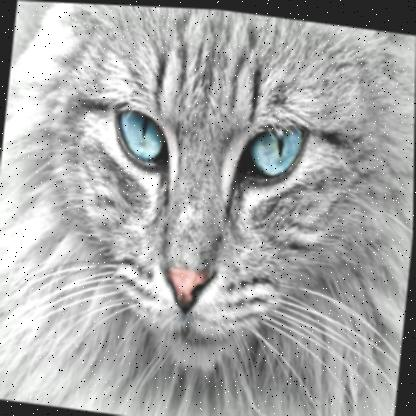cat: (2, 0, 416, 410)
